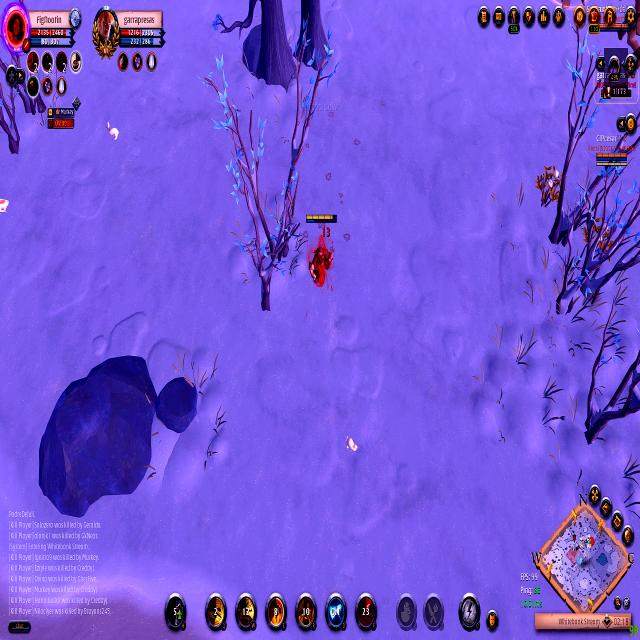hide: (536, 162, 564, 218), (585, 215, 611, 272)
red: (301, 208, 341, 300), (592, 60, 640, 109), (585, 127, 634, 174), (584, 0, 639, 37)
